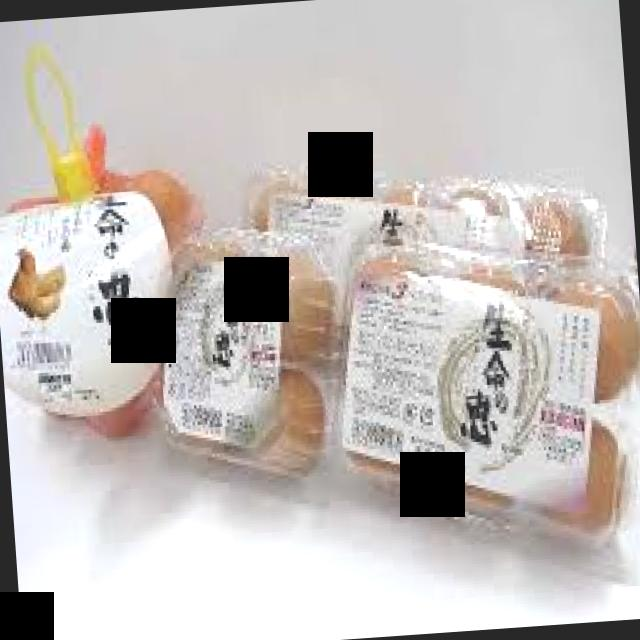egg: (339, 240, 640, 550), (160, 232, 341, 480), (240, 166, 603, 265)
